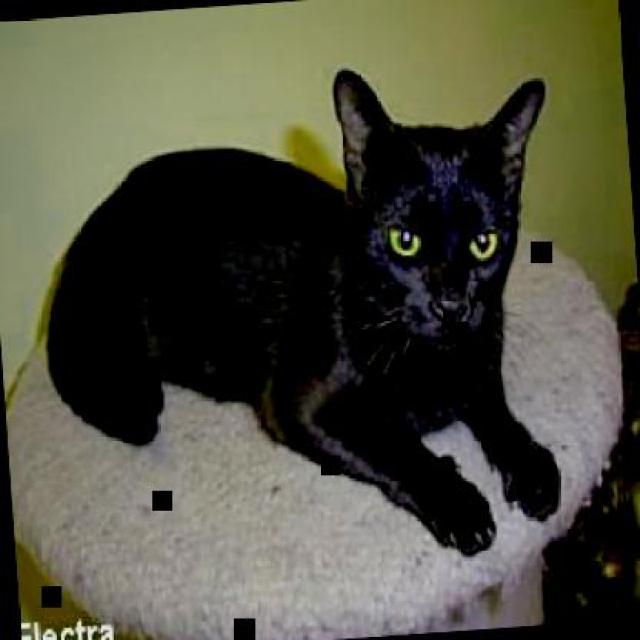cat: (26, 52, 579, 583)
